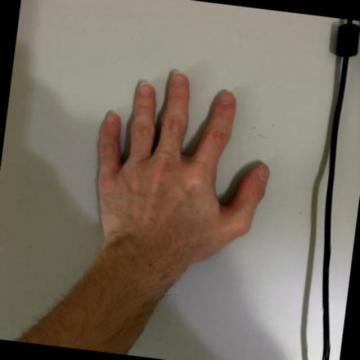hand: (95, 67, 271, 256)
